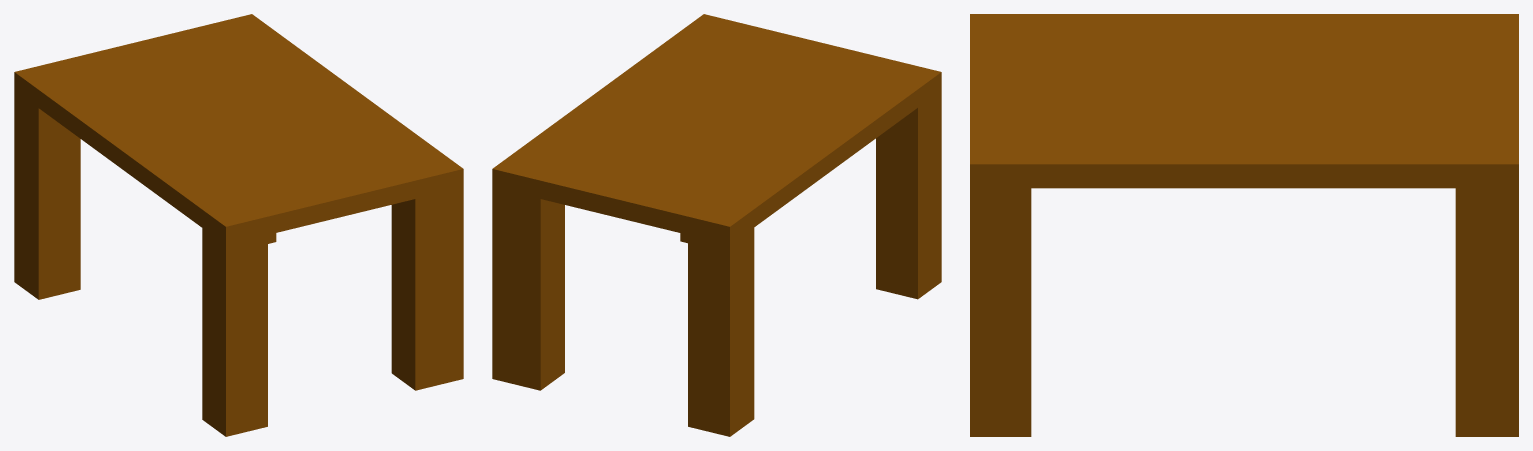
File: mesa.fbx
3 renders of one model, left to right at view 1: azimuth 30°, elevation 25°; view 2: azimuth 150°, elevation 25°; view 3: azimuth 270°, elevation 25°, orthographic. The views are drawn at different scales.
Visible parts, largest first — view 1: Plano; view 2: Plano; view 3: Plano.
Boxes of the visible parts, <box> form: Plano: <box>14,14,463,436</box>; Plano: <box>492,14,941,436</box>; Plano: <box>970,14,1518,436</box>.
Size of the model in its own units: 64.86 by 54.78 by 100.
